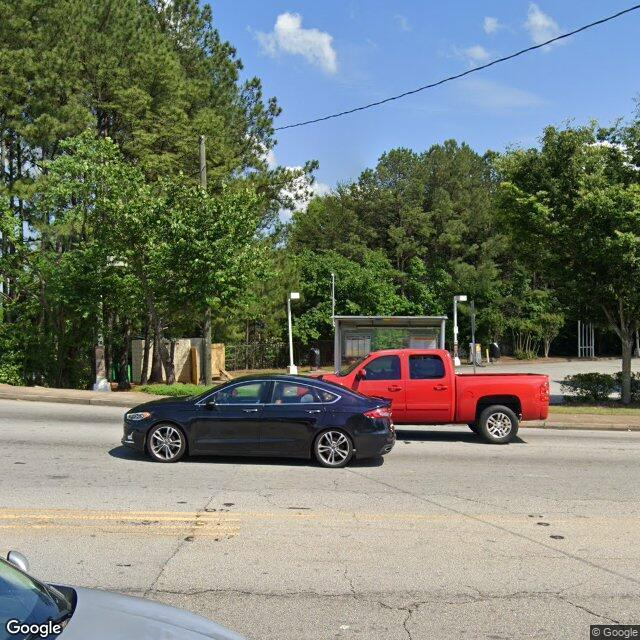shelter: (333, 316, 447, 374)
